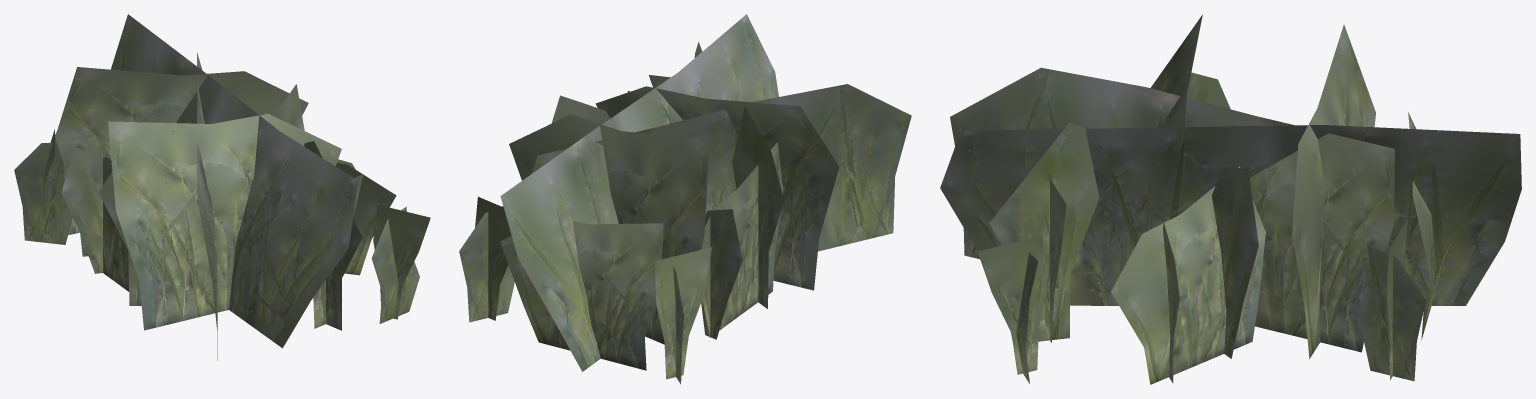
Rendered from sm_Grass_01_01.fbx.
3 views of the same model, side by side, from view 1: azimuth 30°, elevation 25°; view 2: azimuth 150°, elevation 25°; view 3: azimuth 270°, elevation 25° (orthographic). The views are drawn at different scales.
Visible parts, largest first — view 1: sm_Grass_01_01_LOD0; view 2: sm_Grass_01_01_LOD0; view 3: sm_Grass_01_01_LOD0.
Boxes of the visible parts, left/top/right/bottom form: sm_Grass_01_01_LOD0: left=14, top=14, right=430, bottom=360; sm_Grass_01_01_LOD0: left=459, top=14, right=911, bottom=384; sm_Grass_01_01_LOD0: left=940, top=14, right=1521, bottom=384.
Size of the model in its own units: 90.64 by 142 by 65.15.
